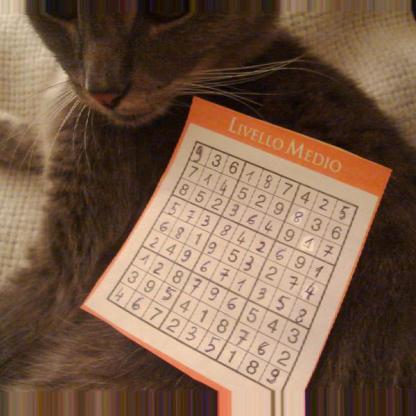sudoku: (105, 135, 363, 395)
